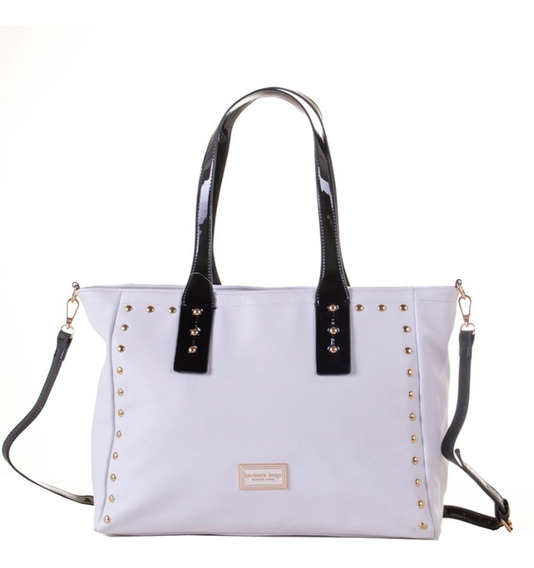cartera: (72, 86, 463, 545)
